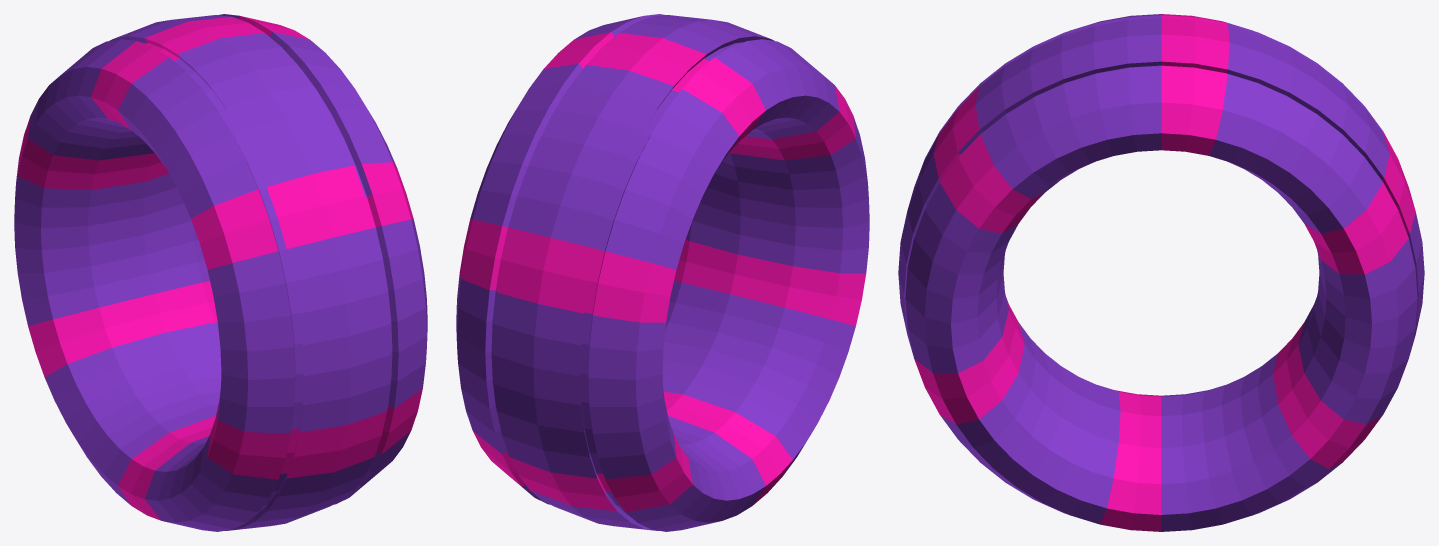
The model's file is player.fbx.
3 renders of one model, left to right at view 1: azimuth 30°, elevation 25°; view 2: azimuth 150°, elevation 25°; view 3: azimuth 270°, elevation 25°, orthographic.
Visible parts, largest first — view 1: Torus; view 2: Torus; view 3: Torus.
Boxes of the visible parts, x1,y1,x2,y2 form: Torus: [14, 14, 427, 531]; Torus: [456, 14, 869, 531]; Torus: [898, 14, 1424, 531].
Size of the model in its own units: 93.1 by 202 by 202.
